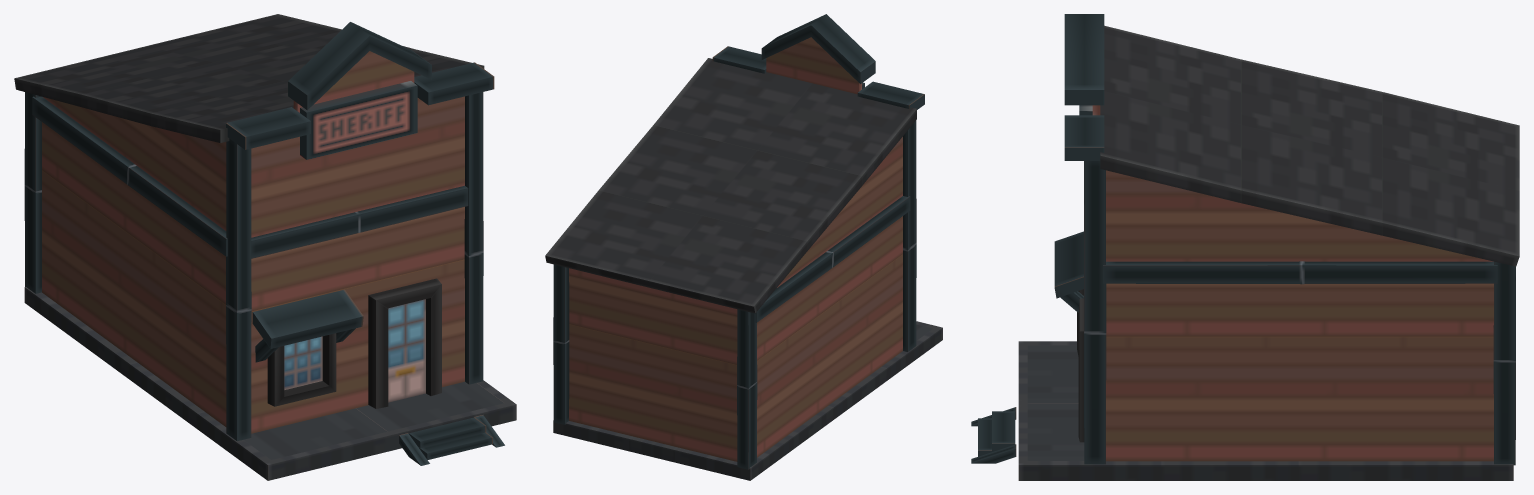
Rendered from house_v4_030.fbx.
The picture shows the model from 3 angles, left to right: view 1: azimuth 30°, elevation 25°; view 2: azimuth 150°, elevation 25°; view 3: azimuth 270°, elevation 25°; orthographic projection. The views are drawn at different scales.
Visible parts, largest first — view 1: house_v4_030; view 2: house_v4_030; view 3: house_v4_030.
Part boxes in pixels (x1,y1,x2,y2): house_v4_030: [14, 14, 516, 480]; house_v4_030: [545, 14, 942, 480]; house_v4_030: [971, 14, 1519, 480].
Size of the model in its own units: 451 by 651 by 798.
